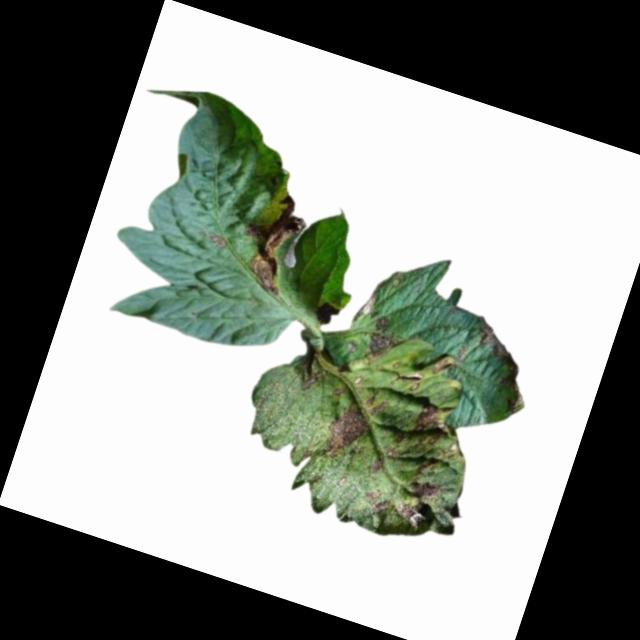Early_blight: (225, 183, 313, 301), (317, 385, 388, 471), (388, 455, 452, 535), (399, 397, 456, 455), (468, 316, 516, 363), (362, 315, 403, 365), (291, 349, 327, 393), (363, 486, 393, 519), (196, 229, 230, 250)
